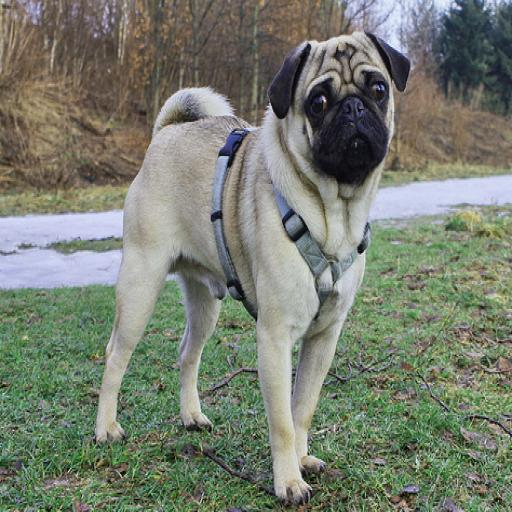dog_face: (267, 29, 412, 176)
